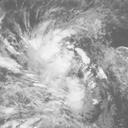cyclone: (16, 18, 92, 97)
